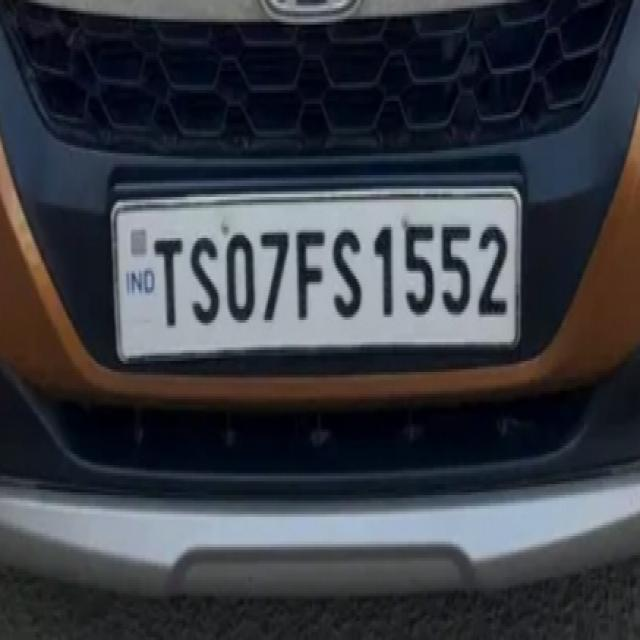0: (222, 224, 259, 336)
1: (374, 210, 396, 330)
5: (403, 210, 437, 332), (438, 208, 473, 325)
7: (253, 219, 294, 327)
F: (292, 219, 330, 329)
S: (184, 225, 223, 342), (328, 211, 367, 328)
T: (150, 226, 188, 340)
